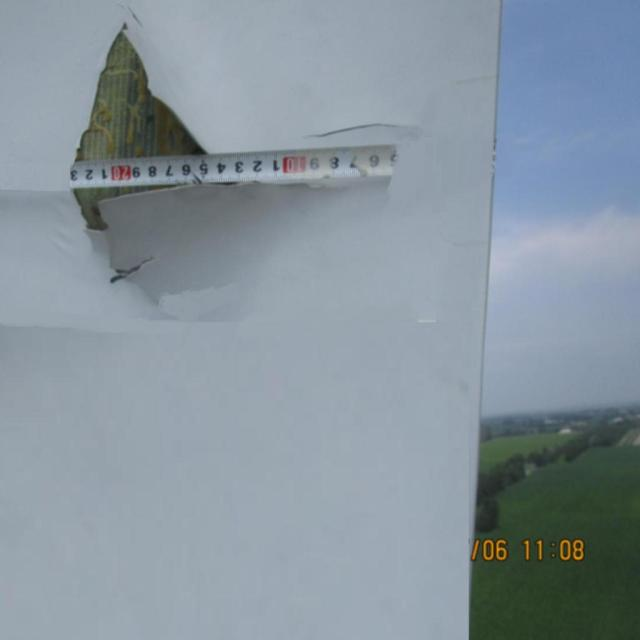crack: (33, 16, 264, 302), (304, 120, 398, 142)
